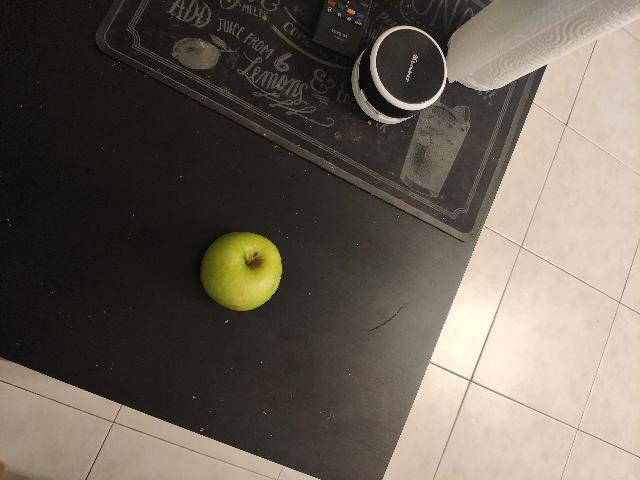apple: (373, 342, 477, 458)
